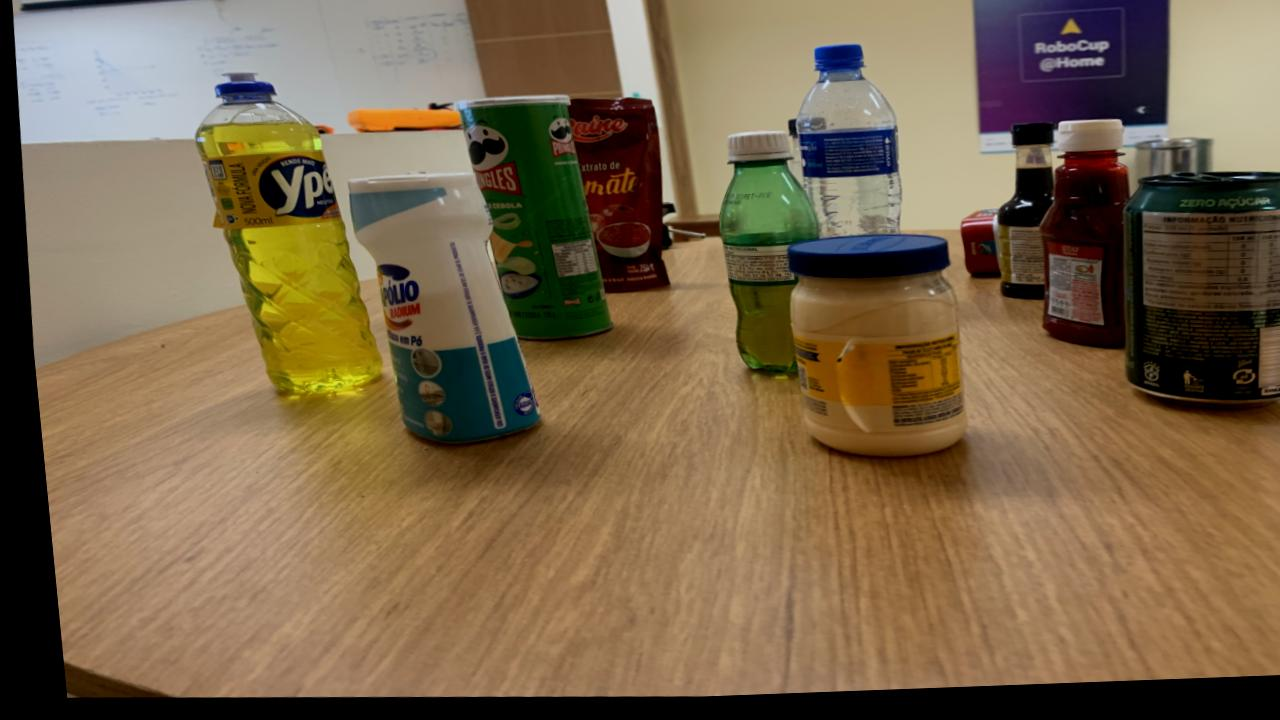Cleaner-Cleanup_Items: (345, 177, 533, 447)
Detergent-Cleanup_Items: (193, 76, 373, 396)
English_Sauce-Pantry_Items: (989, 132, 1050, 308)
Guarana-Drinks: (715, 137, 813, 380)
Guarana_Can-Drinks: (1117, 181, 1280, 416)
Ketchup-Pantry_Items: (1034, 128, 1125, 355)
Mayonnaise-Pantry_Items: (782, 241, 957, 463)
Pringles-Snacks: (455, 99, 604, 343)
Tomato_Sauce-Pantry_Items: (565, 103, 663, 296)
Tuna_Can-Pantry_Items: (956, 218, 993, 283)
Water_Bottle-Drinks: (794, 52, 897, 245)
